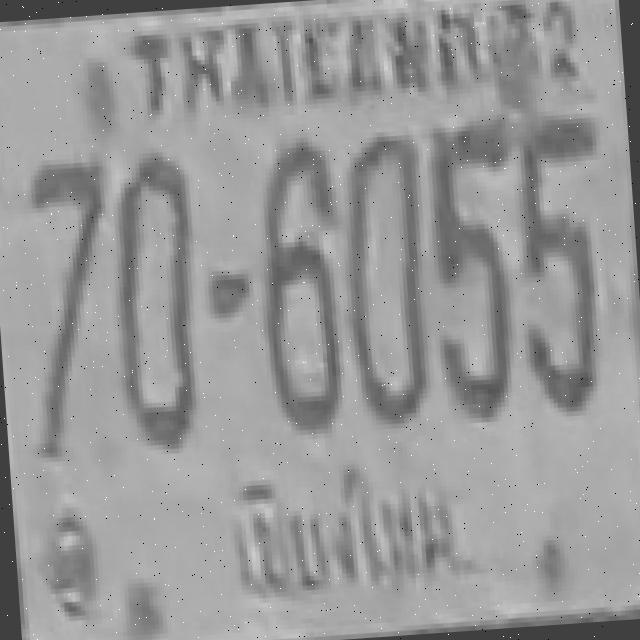0: (102, 148, 206, 440), (336, 130, 432, 422)
5: (512, 108, 610, 413), (426, 112, 522, 420)
6: (255, 136, 349, 432)
7: (25, 157, 118, 456)
ChiangMai: (220, 452, 462, 598)
